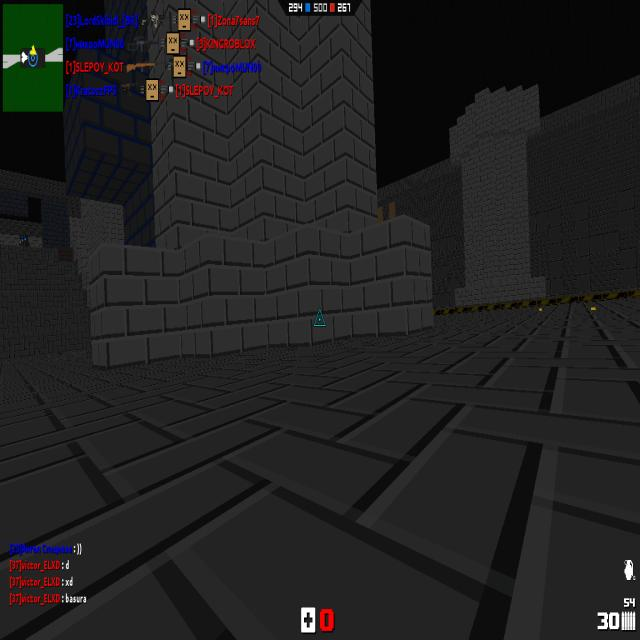enemy: (19, 232, 30, 250)
